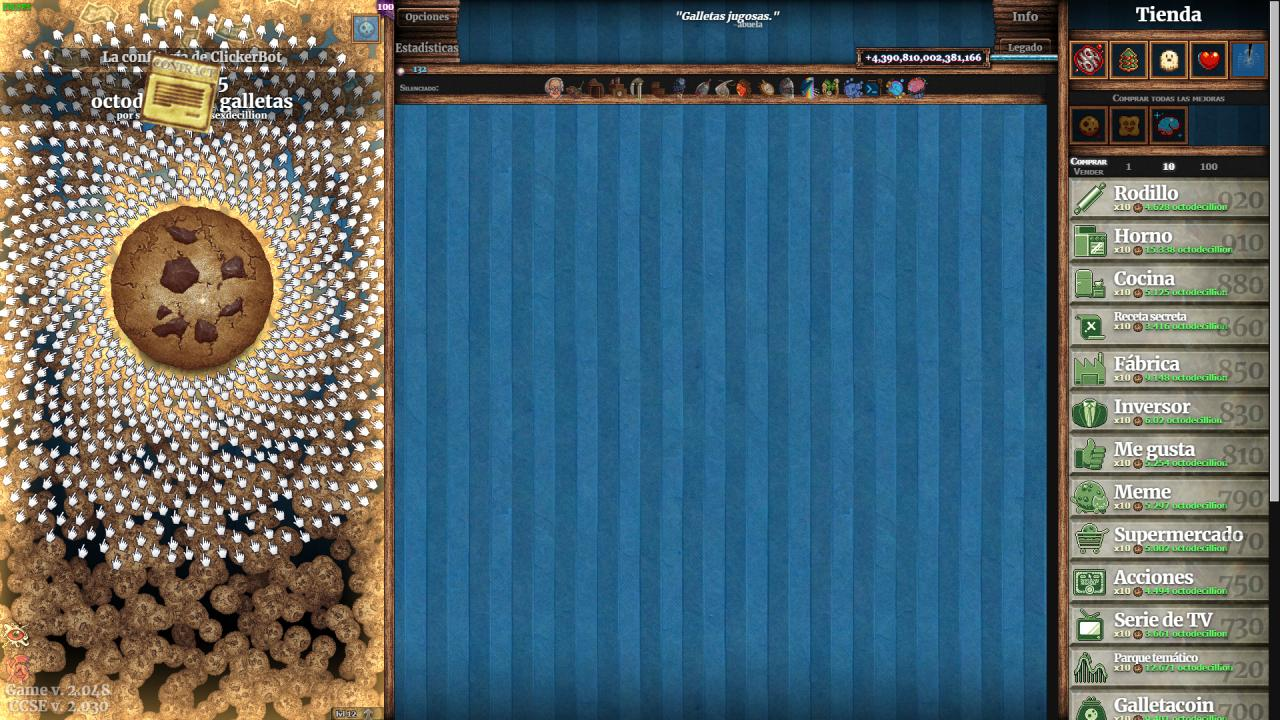GoldenCartridge: (138, 52, 222, 135)
